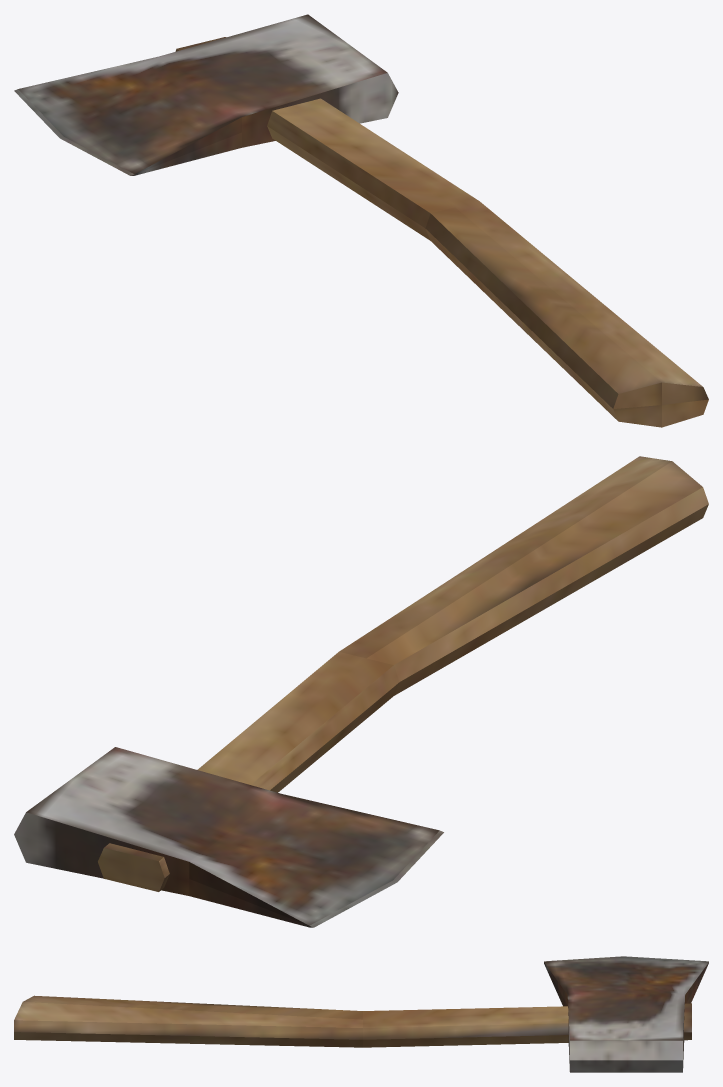
The model's file is axe_textured.fbx.
3 renders of one model, top to bottom at view 1: azimuth 30°, elevation 25°; view 2: azimuth 150°, elevation 25°; view 3: azimuth 270°, elevation 25°, orthographic. The views are drawn at different scales.
Visible parts, largest first — view 1: PR_Axe_01; view 2: PR_Axe_01; view 3: PR_Axe_01.
Boxes of the visible parts, bbox=[...] form: PR_Axe_01: bbox=[14, 14, 708, 427]; PR_Axe_01: bbox=[14, 456, 708, 927]; PR_Axe_01: bbox=[14, 956, 708, 1072].
Size of the model in its own units: 1559 by 224 by 4400.
